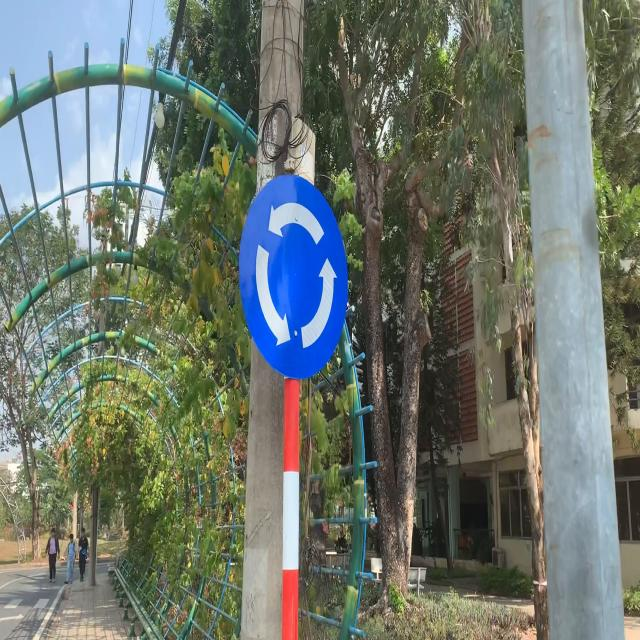Vong xuyen: (241, 166, 354, 384)
